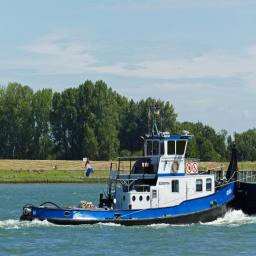tugboat: (19, 129, 245, 233)
